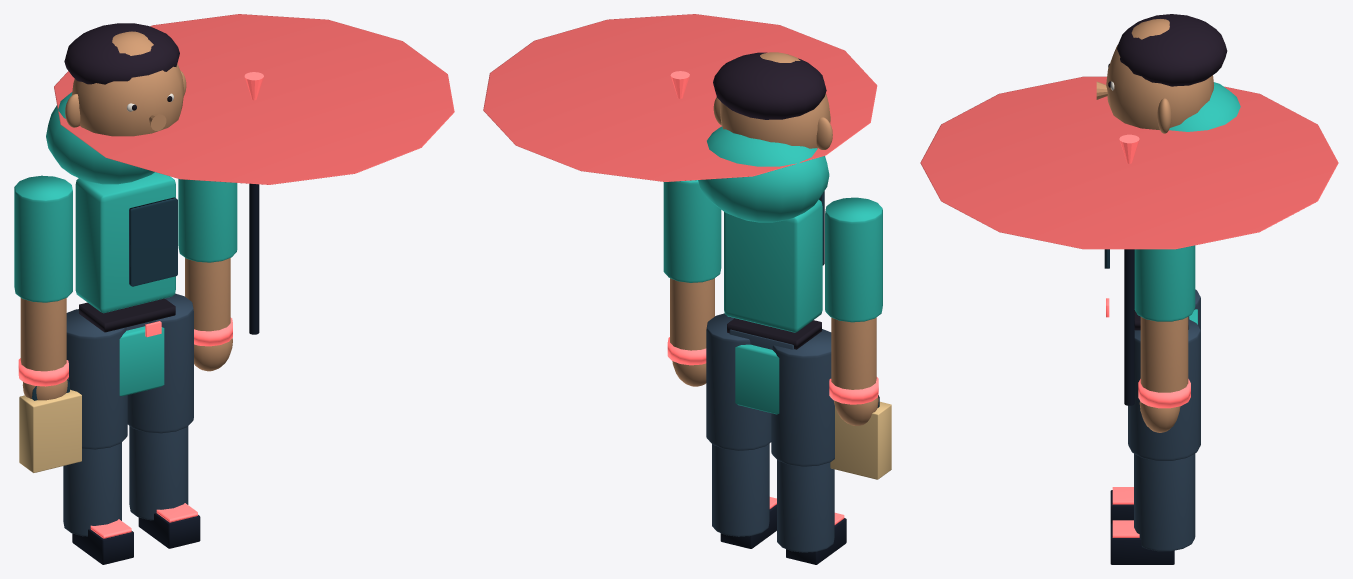
Rendered from char_pedestrian.glb.
3 views of the same model, side by side, from view 1: azimuth 30°, elevation 25°; view 2: azimuth 150°, elevation 25°; view 3: azimuth 270°, elevation 25° (orthographic). The views are drawn at different scales.
Visible parts, largest first — view 1: Pedestrian_Umbrella_Canopy, Pedestrian_Torso, Pedestrian_Sleeve_L, Pedestrian_Face, Pedestrian_Thigh_L, Pedestrian_Thigh_R, Pedestrian_Shin_R, Pedestrian_Hair_Top, Pedestrian_Sleeve_R, Pedestrian_Shopping_Bag, Pedestrian_Shin_L, Pedestrian_Chest_Panel (+12 smaller); view 2: Pedestrian_Umbrella_Canopy, Pedestrian_Torso, Pedestrian_Hood, Pedestrian_Thigh_L, Pedestrian_Sleeve_L, Pedestrian_Hair_Top, Pedestrian_Sleeve_R, Pedestrian_Thigh_R, Pedestrian_Shin_R, Pedestrian_Shin_L, Pedestrian_Shopping_Bag, Pedestrian_Forearm_L (+10 smaller); view 3: Pedestrian_Umbrella_Canopy, Pedestrian_Hair_Top, Pedestrian_Shin_R, Pedestrian_Face, Pedestrian_Thigh_R, Pedestrian_Sleeve_R, Pedestrian_Forearm_R, Pedestrian_Umbrella_Handle, Pedestrian_Hood, Pedestrian_Shoe_R, Pedestrian_Wrist_R, Pedestrian_Hand_R.
Boxes of the visible parts, bbox=[...] form: Pedestrian_Umbrella_Canopy: bbox=[54, 14, 454, 184]; Pedestrian_Torso: bbox=[75, 172, 175, 313]; Pedestrian_Sleeve_L: bbox=[14, 175, 72, 302]; Pedestrian_Face: bbox=[72, 31, 184, 136]; Pedestrian_Thigh_L: bbox=[66, 309, 127, 449]; Pedestrian_Thigh_R: bbox=[127, 293, 193, 433]; Pedestrian_Shin_R: bbox=[129, 426, 188, 520]; Pedestrian_Hair_Top: bbox=[64, 23, 179, 84]; Pedestrian_Sleeve_R: bbox=[178, 179, 237, 262]; Pedestrian_Shopping_Bag: bbox=[19, 389, 81, 472]; Pedestrian_Shin_L: bbox=[63, 443, 121, 536]; Pedestrian_Chest_Panel: bbox=[129, 197, 177, 286]; Pedestrian_Umbrella_Canopy: bbox=[483, 14, 877, 181]; Pedestrian_Torso: bbox=[724, 199, 822, 332]; Pedestrian_Hood: bbox=[698, 126, 829, 222]; Pedestrian_Thigh_L: bbox=[771, 329, 834, 466]; Pedestrian_Sleeve_L: bbox=[825, 197, 882, 322]; Pedestrian_Hair_Top: bbox=[713, 52, 826, 119]; Pedestrian_Sleeve_R: bbox=[663, 180, 721, 282]; Pedestrian_Thigh_R: bbox=[706, 313, 771, 450]; Pedestrian_Shin_R: bbox=[712, 443, 769, 536]; Pedestrian_Shin_L: bbox=[777, 460, 834, 552]; Pedestrian_Shopping_Bag: bbox=[830, 401, 891, 479]; Pedestrian_Forearm_L: bbox=[831, 317, 876, 389]; Pedestrian_Umbrella_Canopy: bbox=[920, 76, 1338, 249]; Pedestrian_Hair_Top: bbox=[1117, 14, 1227, 86]; Pedestrian_Shin_R: bbox=[1134, 453, 1195, 551]; Pedestrian_Face: bbox=[1106, 19, 1213, 129]; Pedestrian_Thigh_R: bbox=[1128, 319, 1200, 460]; Pedestrian_Sleeve_R: bbox=[1134, 245, 1195, 321]; Pedestrian_Forearm_R: bbox=[1140, 317, 1188, 392]; Pedestrian_Umbrella_Handle: bbox=[1124, 249, 1134, 405]; Pedestrian_Hood: bbox=[1169, 82, 1240, 131]; Pedestrian_Shoe_R: bbox=[1110, 523, 1174, 564]; Pedestrian_Wrist_R: bbox=[1138, 379, 1190, 408]; Pedestrian_Hand_R: bbox=[1139, 401, 1180, 432].
Bounding box in the file's own units: 1.59 × 1.95 × 1.43.
